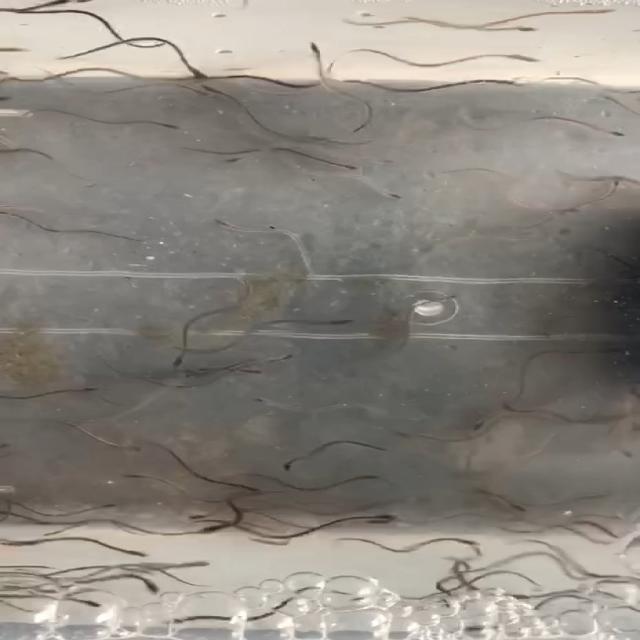active_glass_eel: (576, 341, 632, 364), (0, 1, 64, 19), (302, 311, 358, 330), (440, 530, 490, 550), (124, 116, 169, 138), (300, 34, 341, 58), (579, 6, 640, 22), (81, 496, 135, 514), (219, 477, 265, 498), (577, 114, 625, 134), (412, 286, 460, 306), (275, 455, 324, 474), (494, 53, 548, 70), (260, 349, 306, 367), (218, 65, 252, 89), (206, 212, 243, 234), (164, 350, 202, 371), (579, 169, 615, 191), (502, 583, 538, 604), (256, 398, 295, 417), (164, 610, 204, 628), (487, 76, 527, 93), (495, 403, 535, 420), (177, 363, 221, 378), (503, 497, 537, 516), (115, 438, 146, 458), (169, 68, 213, 82), (514, 520, 552, 536), (470, 417, 507, 433), (104, 66, 148, 79), (322, 154, 353, 172), (68, 383, 107, 397), (119, 544, 152, 560), (590, 566, 622, 582), (66, 597, 105, 610), (555, 201, 588, 216), (188, 557, 218, 573), (607, 528, 631, 548), (237, 365, 264, 381), (500, 24, 543, 34), (136, 584, 166, 598), (195, 82, 220, 98), (220, 518, 246, 533), (211, 156, 245, 167), (369, 512, 395, 526), (2, 540, 38, 550), (442, 554, 472, 566), (121, 471, 148, 484), (188, 512, 217, 523), (236, 524, 262, 536), (436, 584, 457, 597), (363, 471, 386, 482)
